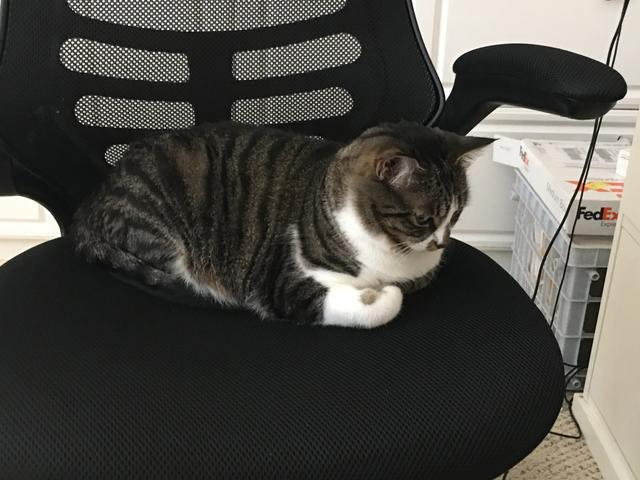playdoh: (70, 118, 498, 331)
